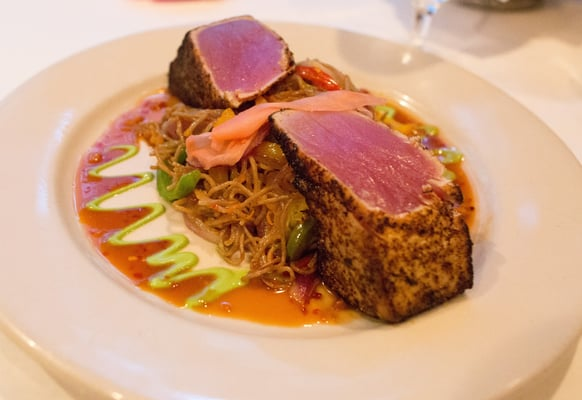soup: (269, 108, 472, 324)
